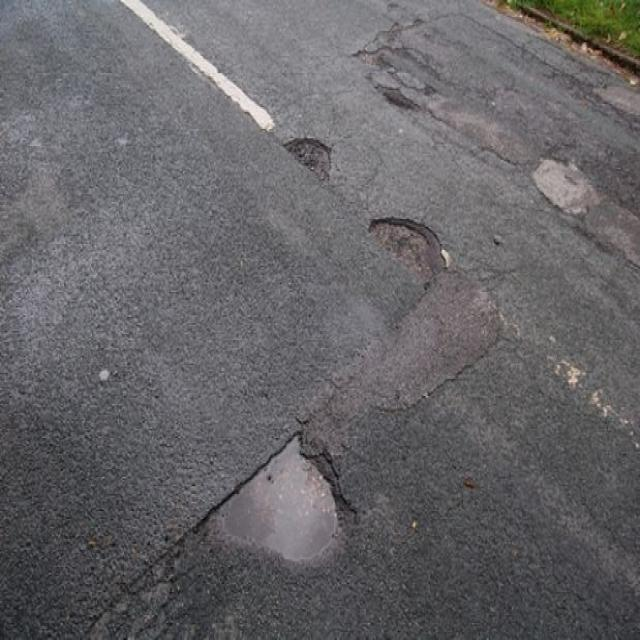Pothole: (190, 424, 360, 566), (363, 208, 449, 283), (528, 151, 601, 218), (276, 129, 337, 179)
